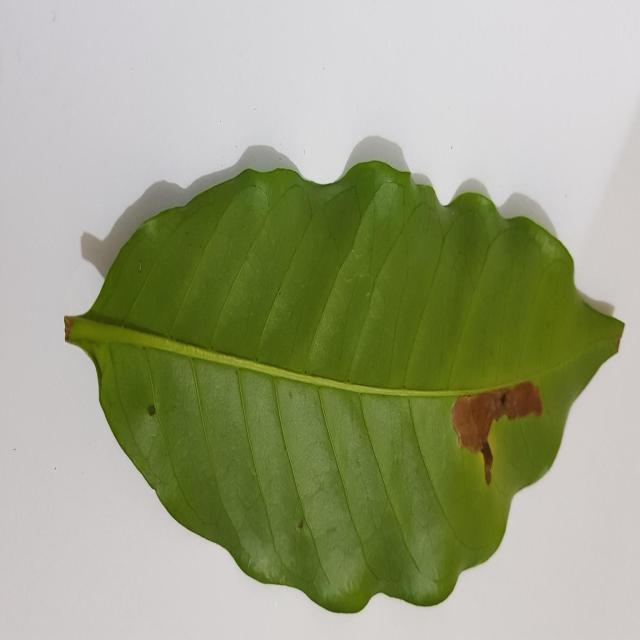miner: (452, 381, 542, 485)
